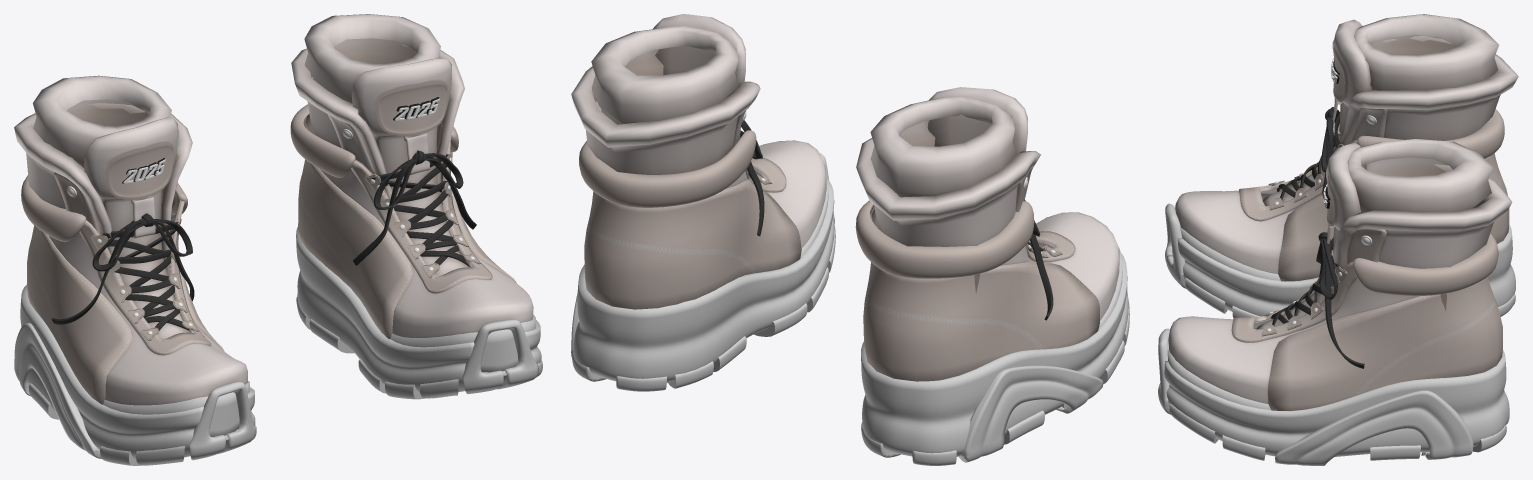
File: beige_cute_sneakers.glb
The picture shows the model from 3 angles, left to right: view 1: azimuth 30°, elevation 25°; view 2: azimuth 150°, elevation 25°; view 3: azimuth 270°, elevation 25°; orthographic projection. The views are drawn at different scales.
Parts seen in each view (by area): view 1: shoe_main_1, shoe_sole_2, shoe_Tongue_0, shoe_strips_3, Retopo_shoe_front_num L_4, Retopo_shoe_front_num R_5; view 2: shoe_main_1, shoe_sole_2, shoe_Tongue_0, shoe_strips_3; view 3: shoe_main_1, shoe_sole_2, shoe_Tongue_0, shoe_strips_3.
Part boxes in pixels (box(x1,y1,x2,y2)): shoe_main_1: box(14, 14, 533, 405); shoe_sole_2: box(14, 227, 542, 465); shoe_Tongue_0: box(84, 58, 470, 338); shoe_strips_3: box(51, 150, 476, 330); Retopo_shoe_front_num L_4: box(393, 97, 439, 120); Retopo_shoe_front_num R_5: box(122, 158, 165, 183); shoe_main_1: box(571, 25, 1119, 381); shoe_sole_2: box(571, 153, 1129, 465); shoe_Tongue_0: box(653, 14, 1027, 153); shoe_strips_3: box(740, 120, 1053, 320); shoe_main_1: box(1168, 14, 1518, 411); shoe_sole_2: box(1158, 203, 1515, 465); shoe_Tongue_0: box(1256, 19, 1371, 329); shoe_strips_3: box(1271, 107, 1364, 368).
Size of the model in its own units: 1.74 by 1.16 by 1.34.
7 materials, 2 textured.
